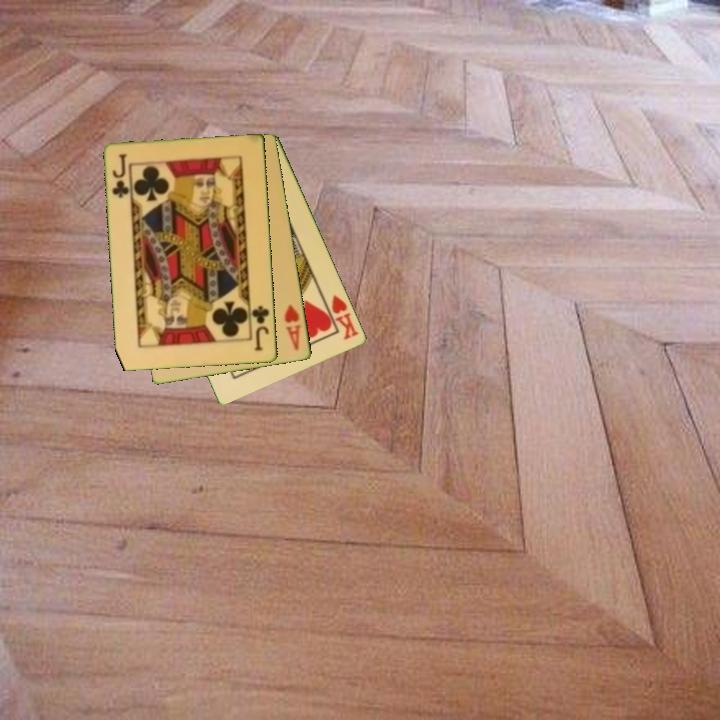Ah: (281, 301, 304, 353)
Jc: (248, 303, 272, 354), (109, 150, 132, 201)
Kh: (320, 292, 362, 343)
